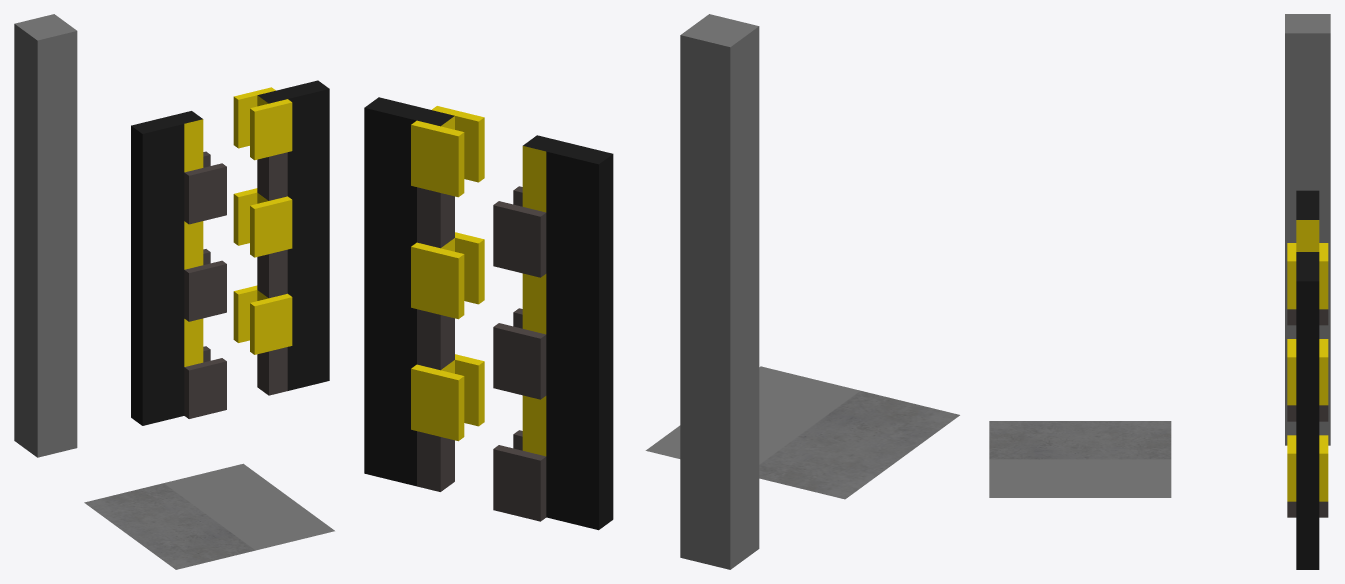
Rendered from cenarioFabrica.fbx.
The picture shows the model from 3 angles, left to right: view 1: azimuth 30°, elevation 25°; view 2: azimuth 150°, elevation 25°; view 3: azimuth 270°, elevation 25°; orthographic projection. The views are drawn at different scales.
Visible parts, largest first — view 1: ParedeFabrica_multifuncoes, PortaFabrica.001, PortaFabrica, ChaoFabrica; view 2: ParedeFabrica_multifuncoes, PortaFabrica, PortaFabrica.001, ChaoFabrica; view 3: ChaoFabrica, PortaFabrica.001, ParedeFabrica_multifuncoes, PortaFabrica.
Boxes of the visible parts, box(x1,y1,x2,y2) form: ParedeFabrica_multifuncoes: box(14, 14, 77, 457); PortaFabrica.001: box(233, 80, 329, 395); PortaFabrica: box(131, 111, 226, 425); ChaoFabrica: box(84, 463, 334, 569); ParedeFabrica_multifuncoes: box(680, 14, 759, 569); PortaFabrica: box(493, 135, 613, 530); PortaFabrica.001: box(364, 97, 484, 491); ChaoFabrica: box(645, 366, 959, 499); ChaoFabrica: box(989, 421, 1171, 497); PortaFabrica.001: box(1287, 243, 1328, 569); ParedeFabrica_multifuncoes: box(1285, 14, 1330, 445); PortaFabrica: box(1287, 190, 1328, 517).
Bounding box in the file's own units: 775 × 1000 × 750.
